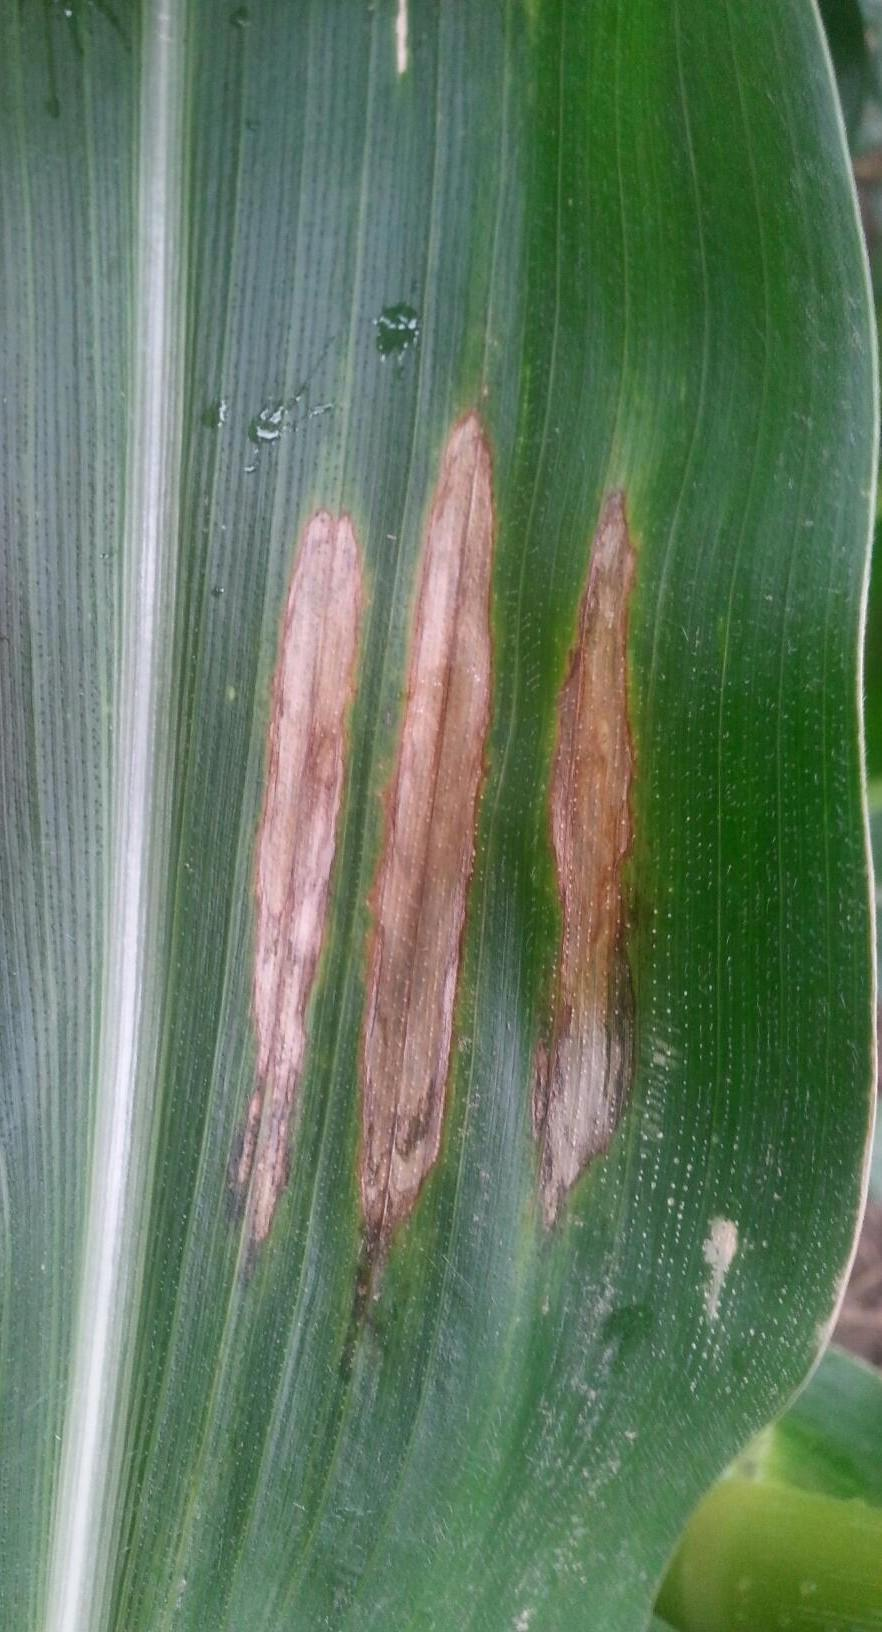Corn_Blight: (184, 368, 727, 1366)
